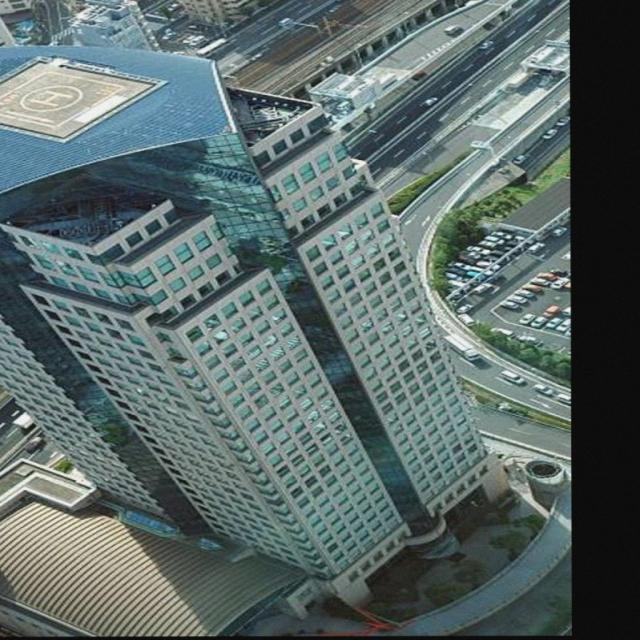helipad: (16, 80, 85, 114)
